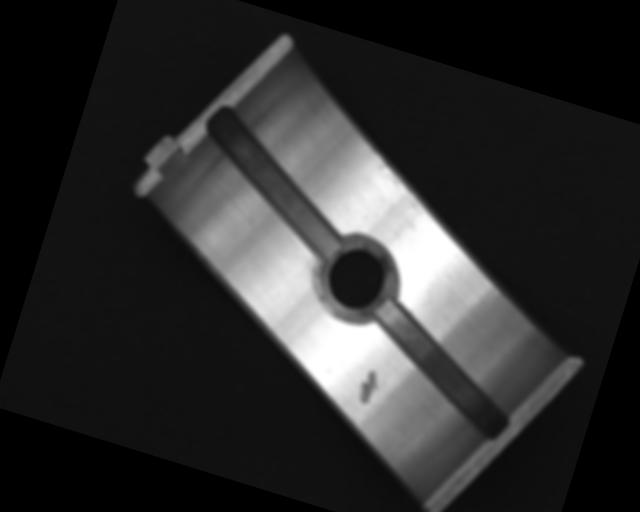bruise: (354, 367, 384, 408)
gap: (181, 104, 367, 262), (351, 298, 531, 444)
hole: (310, 231, 401, 332)
